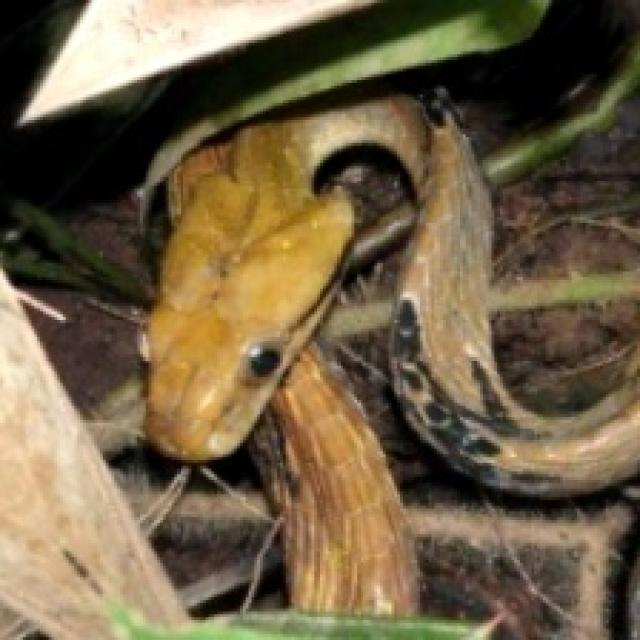dog-toothed cat snake: (143, 0, 637, 609)
